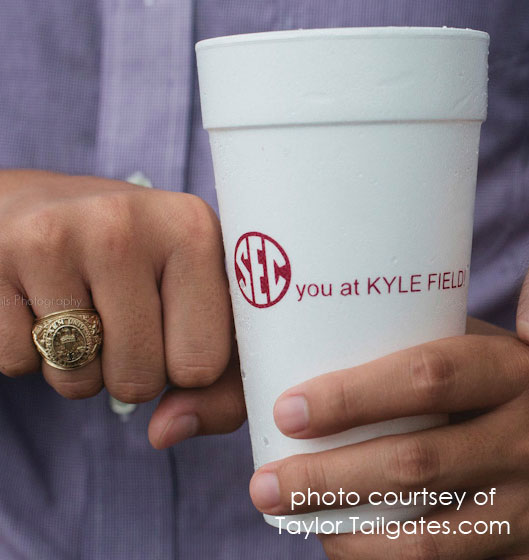Nonrec_Plastic: (184, 21, 490, 533)
